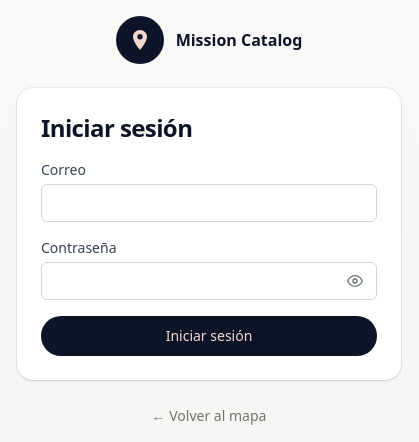
Test: LoginPage › disables the button while submitting
The width and height of the screenshot is (419, 442).
In the field labelled "Correo": coordinates (209, 203) [41, 184, 377, 222], type "a@b.com"
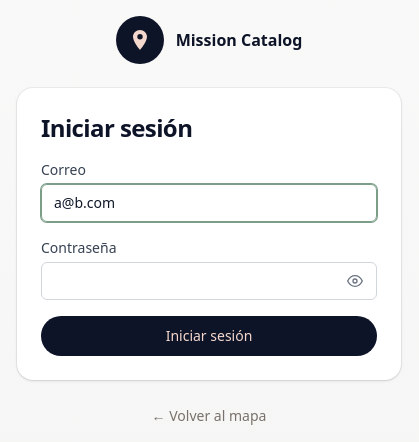
In the password field labelled "Contraseña": coordinates (209, 281) [41, 262, 377, 300], type "secret"
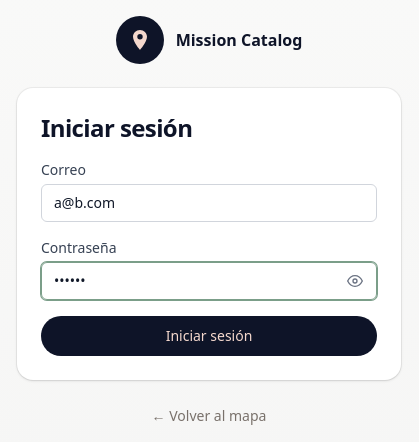
Click the button "Iniciar sesión": coordinates (209, 336) [41, 316, 377, 356]
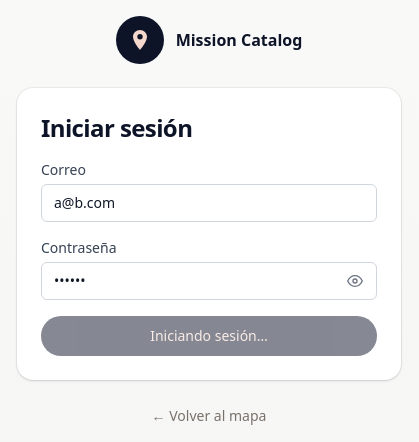
expect the button "Iniciando sesión…" is disabled: met, box [41, 316, 377, 356]
